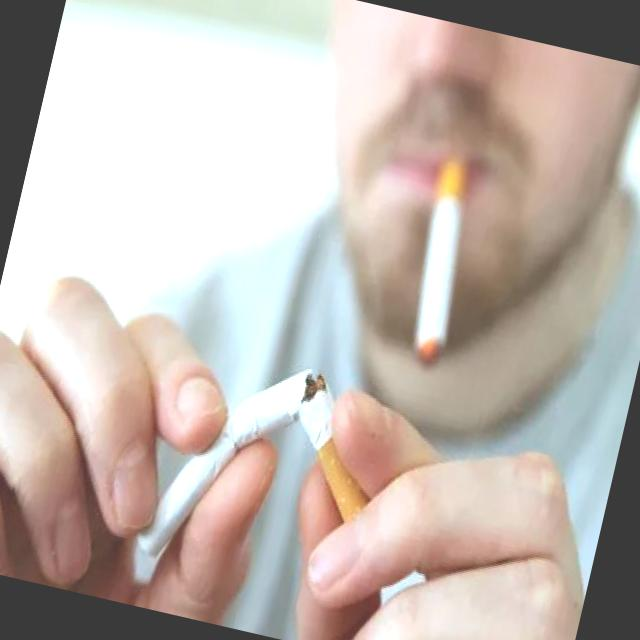cigarette: (127, 331, 316, 600), (278, 374, 432, 564), (384, 150, 491, 378)
